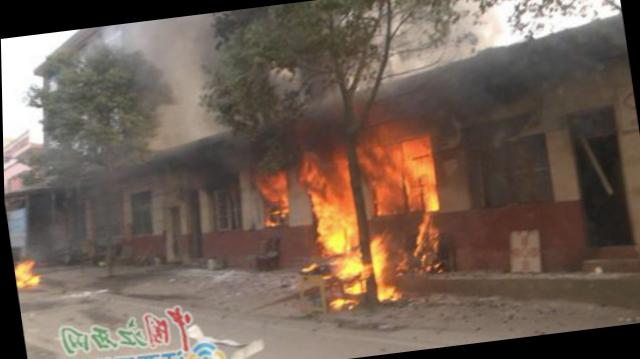fire: (306, 146, 362, 256), (400, 132, 441, 210), (368, 140, 410, 212), (368, 233, 398, 302), (258, 168, 290, 212), (414, 213, 441, 258), (14, 254, 44, 288), (334, 254, 367, 282), (342, 276, 368, 296), (329, 295, 358, 308)
